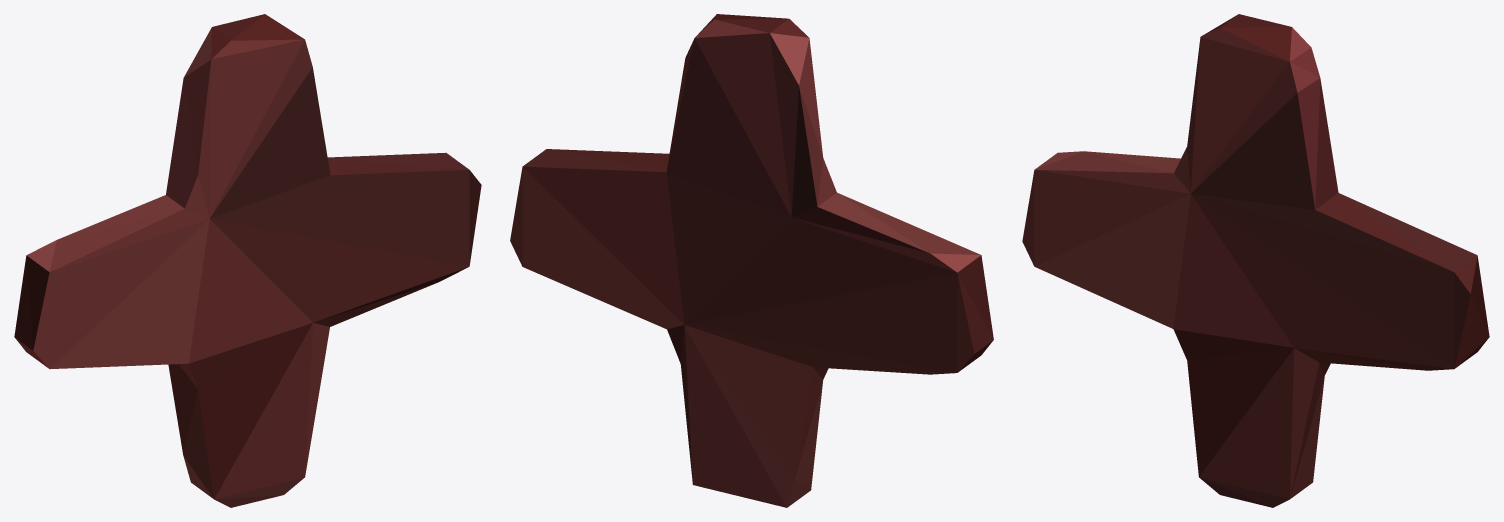
File: Symbol-Medical.fbx
3 views of the same model, side by side, from view 1: azimuth 30°, elevation 25°; view 2: azimuth 150°, elevation 25°; view 3: azimuth 330°, elevation 25° (orthographic). The views are drawn at different scales.
Visible parts, largest first — view 1: Symbol-Medical; view 2: Symbol-Medical; view 3: Symbol-Medical.
Part boxes in pixels (x1,y1,x2,y2): Symbol-Medical: [14, 14, 481, 507]; Symbol-Medical: [510, 14, 993, 507]; Symbol-Medical: [1022, 14, 1489, 507].
Bounding box in the file's own units: 85.55 × 85.18 × 8.91.
